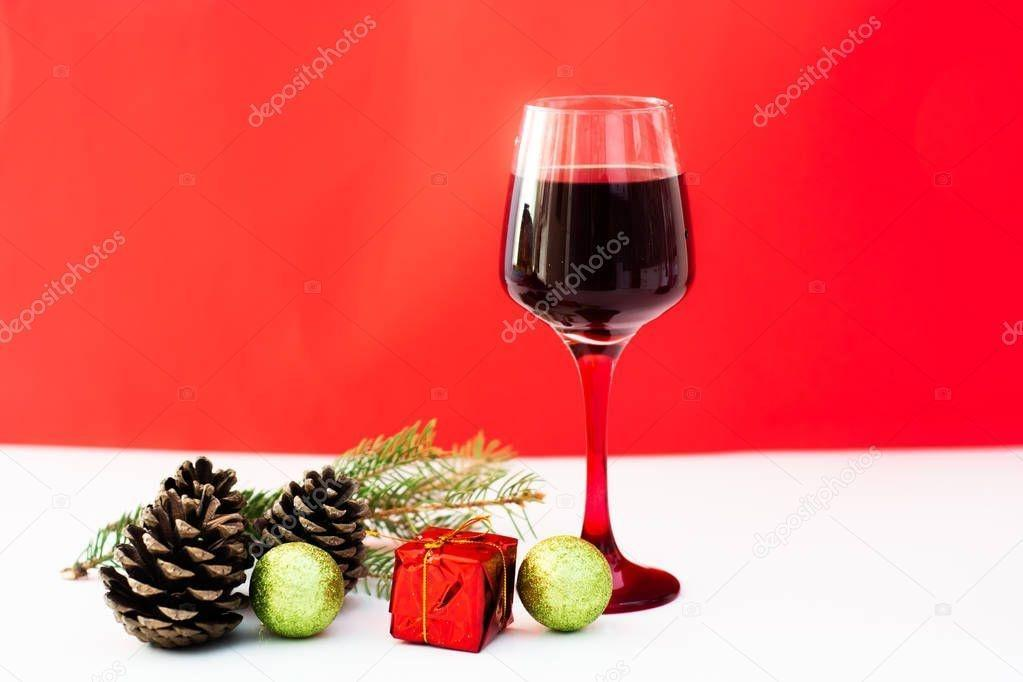glass-wine: (499, 91, 699, 619)
